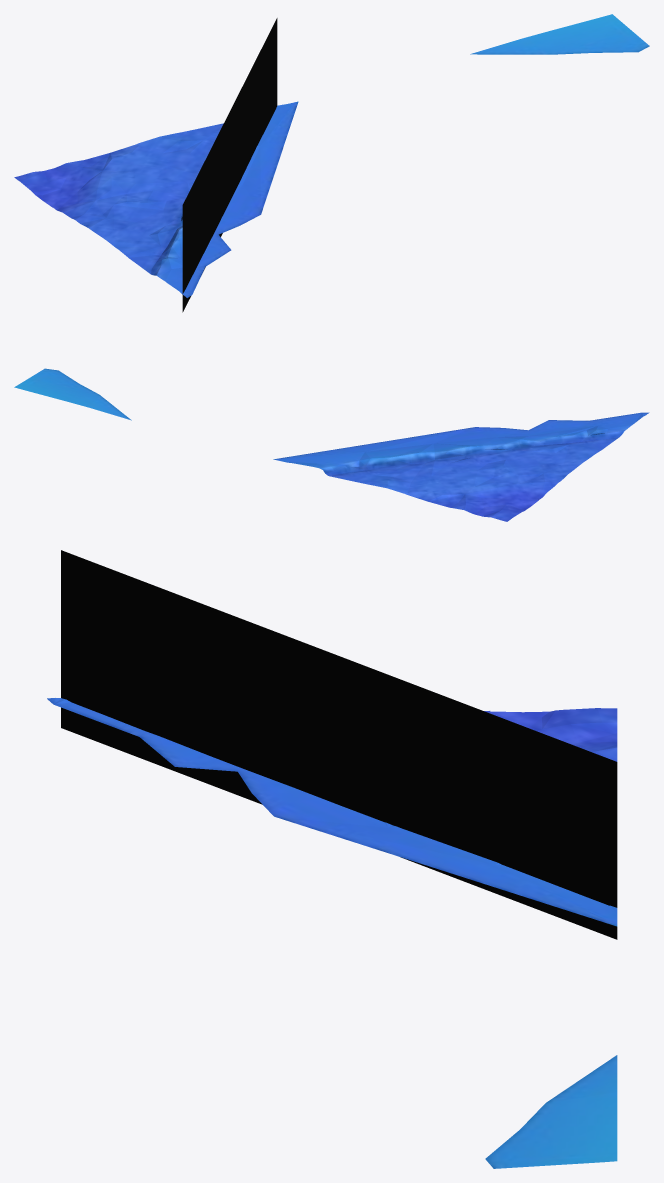
3 views of the same model, one above another, from view 1: azimuth 30°, elevation 25°; view 2: azimuth 150°, elevation 25°; view 3: azimuth 270°, elevation 25° (orthographic). The views are drawn at different scales.
Size of the model in its own units: 52.22 by 9 by 26.16.
Materials: 2 (2 with a texture image).
